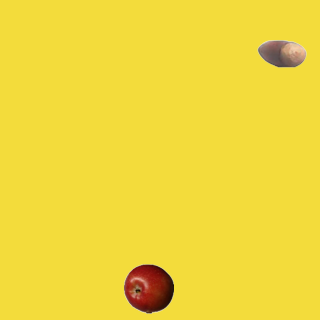Apple Braeburn: (123, 263, 173, 313)
Hazelnut: (256, 28, 306, 78)
